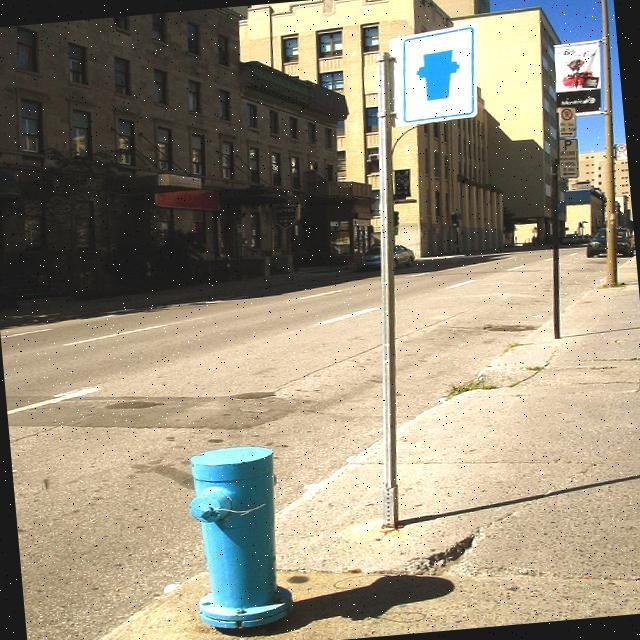fire_hydrant: (182, 445, 297, 635)
